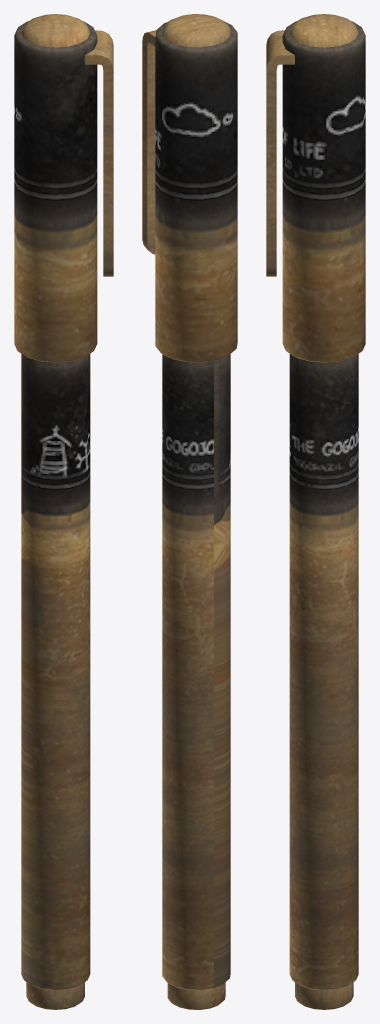
Rendered from pen01.FBX.
The picture shows the model from 3 angles, left to right: view 1: azimuth 90°, elevation 25°; view 2: azimuth 210°, elevation 25°; view 3: azimuth 270°, elevation 25°; orthographic projection.
Parts seen in each view (by area): view 1: SM_Pen01; view 2: SM_Pen01; view 3: SM_Pen01.
Boxes of the visible parts, <box> form: SM_Pen01: <box>14,14,113,1009</box>; SM_Pen01: <box>142,14,237,1009</box>; SM_Pen01: <box>266,14,365,1009</box>.
Bounding box in the file's own units: 1.2 × 15.61 × 1.44.
1 material, 1 textured.
